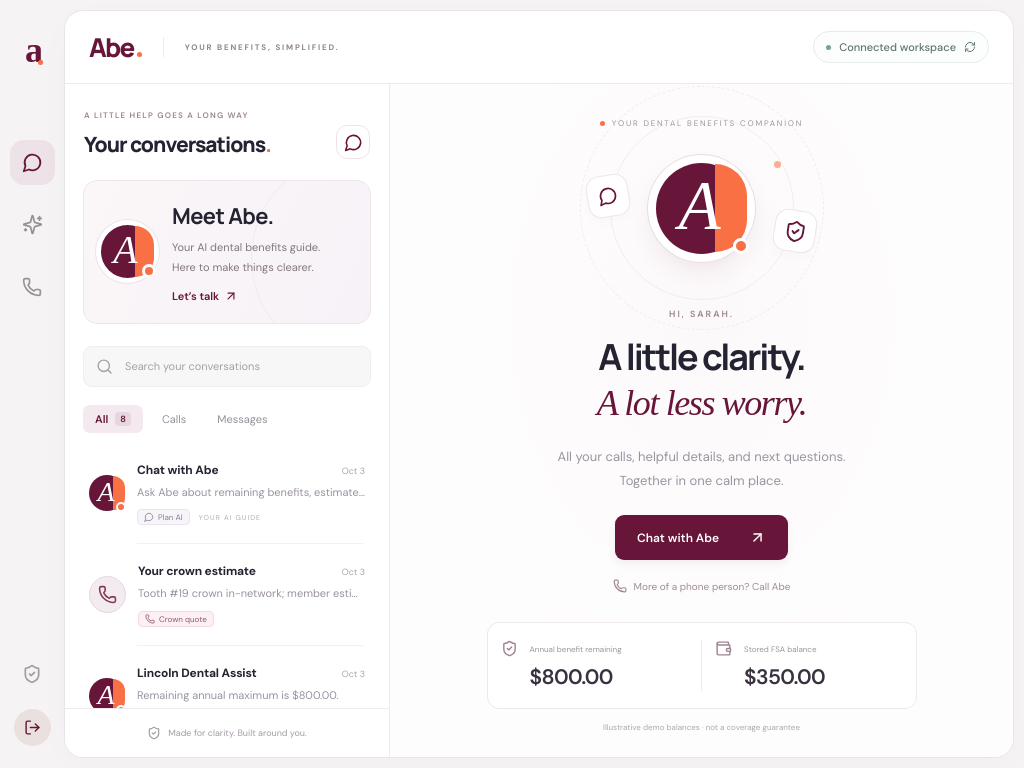
Test: Abe companion › preserves a failed message for retry
The image size is (1024, 768).
Expected: the heading "Your crown estimate" is shown, [138, 563, 256, 579]
Click the button named "Chat with Abe". click: (32, 224)
box: [10, 202, 54, 247]
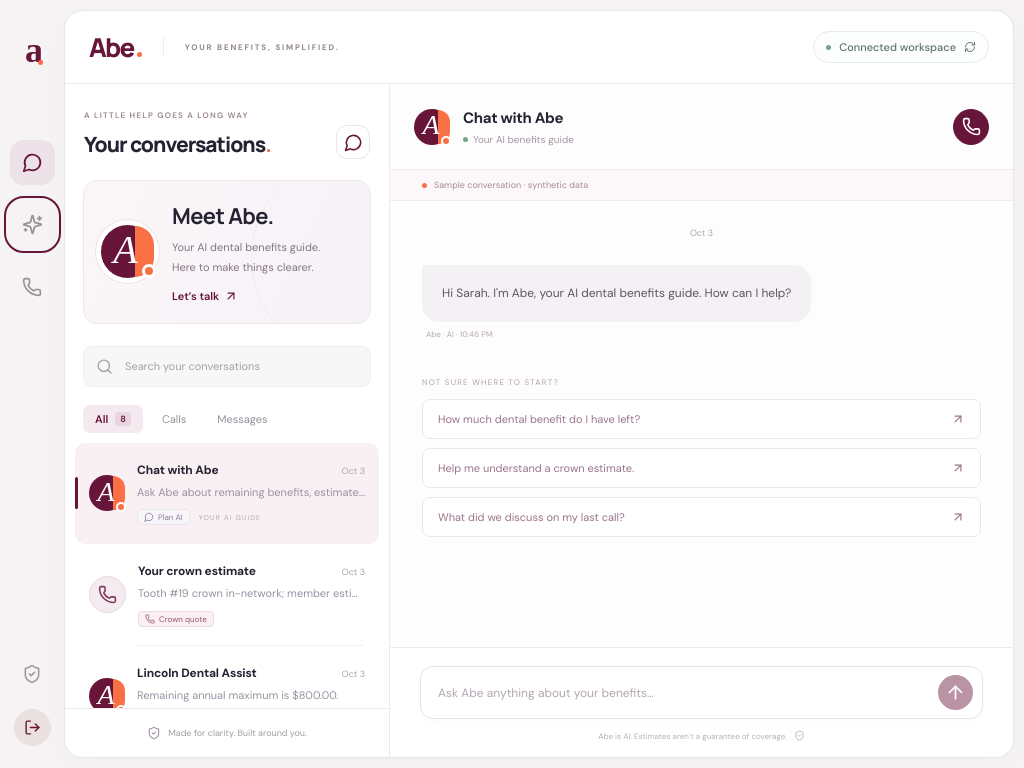
Type "Please help" into the text box named "Message Abe". click: (682, 692)
box: [438, 676, 926, 708]
Then press Enter
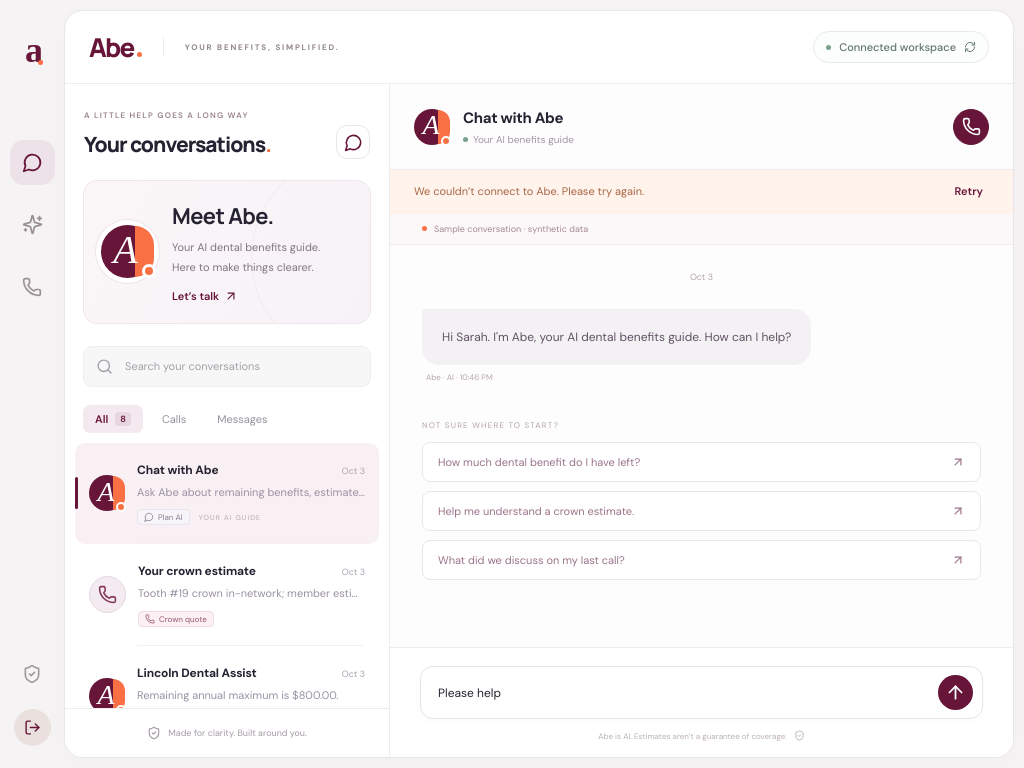
Expected: the message reads "We couldn’t connect to Abe. Please try again. Retry", [414, 184, 644, 198]
